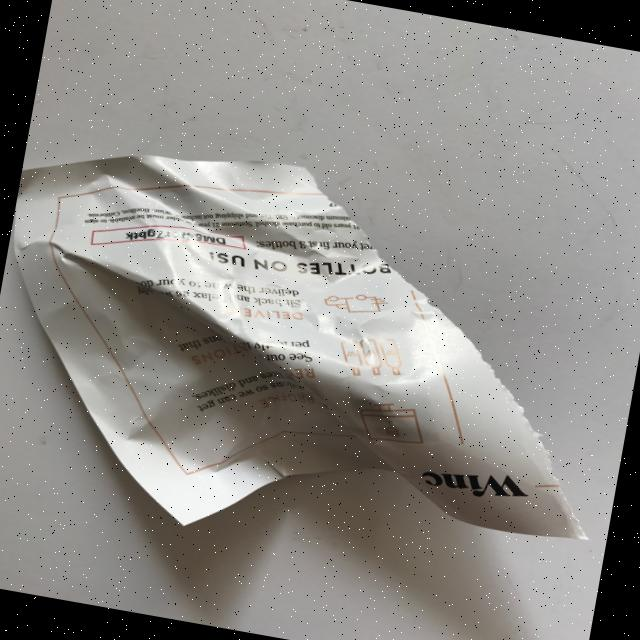paper: (0, 117, 640, 595)
